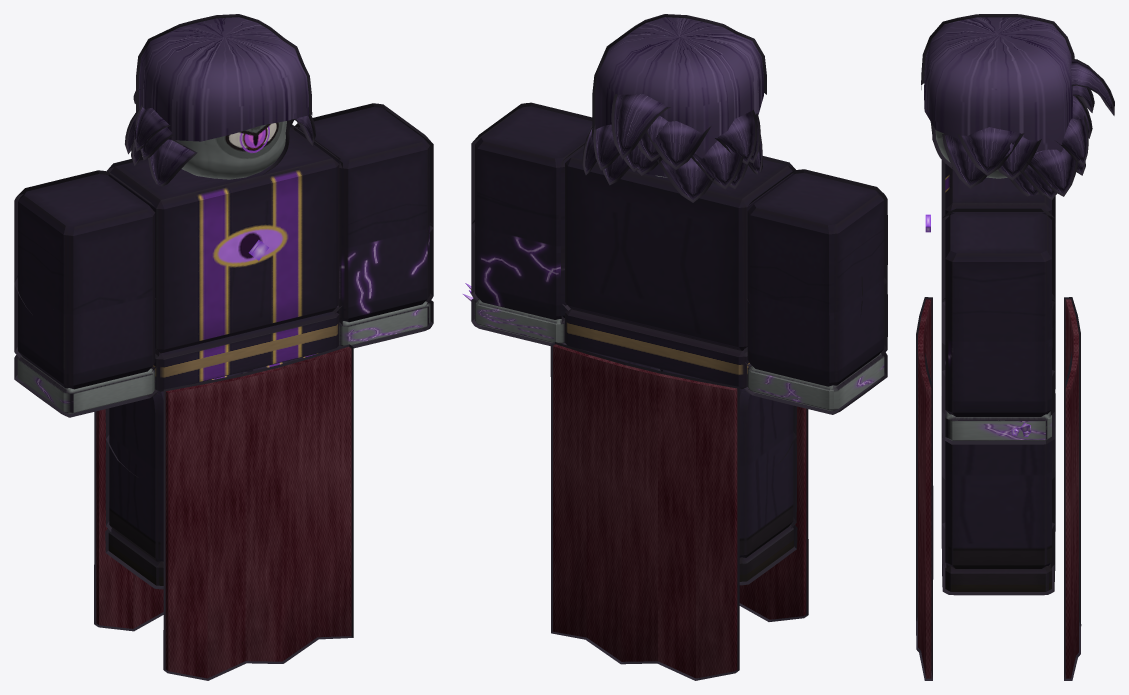
The model's file is Priest.fbx.
3 views of the same model, side by side, from view 1: azimuth 30°, elevation 25°; view 2: azimuth 150°, elevation 25°; view 3: azimuth 270°, elevation 25° (orthographic).
Visible parts, largest first — view 1: LowerTorso_Armor, UpperTorso_Body, Head_Hood, RightUpperArm_Body, LeftUpperArm_Body, RightLowerArm_Body, LowerTorso_Body, LeftLowerArm_Body, RightLowerLeg_Body, Head_Body, LowerTorso_ArmorOutline, RightHand_Body (+7 smaller); view 2: LowerTorso_Armor, UpperTorso_Body, Head_Hood, RightUpperArm_Body, LeftUpperArm_Body, RightLowerArm_Body, LowerTorso_Body, LeftLowerArm_Body, RightLowerLeg_Body, Head_HoodOutline, LowerTorso_ArmorOutline, RightHand_Body (+6 smaller); view 3: Head_Hood, LeftUpperArm_Body, LowerTorso_Armor, LeftLowerLeg_Body, LeftLowerArm_Body, LeftUpperLeg_Body, LowerTorso_ArmorOutline, Head_HoodOutline, UpperTorso_Body, LeftFoot_Body, LeftHand_Body, LeftUpperArm_BodyOutline (+6 smaller).
Boxes of the visible parts, <box> form: LowerTorso_Armor: <box>96,346,351,678</box>; UpperTorso_Body: <box>108,127,339,353</box>; Head_Hood: <box>128,17,312,185</box>; RightUpperArm_Body: <box>18,174,155,317</box>; LeftUpperArm_Body: <box>296,107,429,250</box>; RightLowerArm_Body: <box>18,283,155,389</box>; LowerTorso_Body: <box>153,311,339,391</box>; LeftLowerArm_Body: <box>337,227,429,322</box>; RightLowerLeg_Body: <box>109,438,163,561</box>; Head_Body: <box>172,121,286,179</box>; LowerTorso_ArmorOutline: <box>94,344,353,680</box>; RightHand_Body: <box>17,355,155,413</box>; LowerTorso_Armor: <box>553,344,806,678</box>; UpperTorso_Body: <box>565,148,794,350</box>; Head_Hood: <box>585,17,763,199</box>; RightUpperArm_Body: <box>747,173,884,315</box>; LeftUpperArm_Body: <box>475,106,592,248</box>; RightLowerArm_Body: <box>747,281,884,386</box>; LowerTorso_Body: <box>565,309,749,388</box>; LeftLowerArm_Body: <box>475,226,567,319</box>; RightLowerLeg_Body: <box>739,435,793,557</box>; Head_HoodOutline: <box>582,14,766,202</box>; LowerTorso_ArmorOutline: <box>550,342,808,680</box>; RightHand_Body: <box>747,353,884,411</box>; Head_Hood: <box>924,17,1113,197</box>; LeftUpperArm_Body: <box>945,212,1051,343</box>; LowerTorso_Armor: <box>918,299,1078,678</box>; LeftLowerLeg_Body: <box>945,475,1051,568</box>; LeftLowerArm_Body: <box>945,341,1051,416</box>; LeftUpperLeg_Body: <box>945,441,1051,477</box>; LowerTorso_ArmorOutline: <box>916,297,1081,680</box>; Head_HoodOutline: <box>921,14,1114,200</box>; UpperTorso_Body: <box>945,164,1051,215</box>; LeftFoot_Body: <box>945,563,1051,591</box>; LeftHand_Body: <box>945,411,1051,440</box>; LeftUpperArm_BodyOutline: <box>941,208,1055,348</box>.
Bounding box in the file's own units: 431 × 636 × 187.
Materials: 6 (5 with a texture image).
